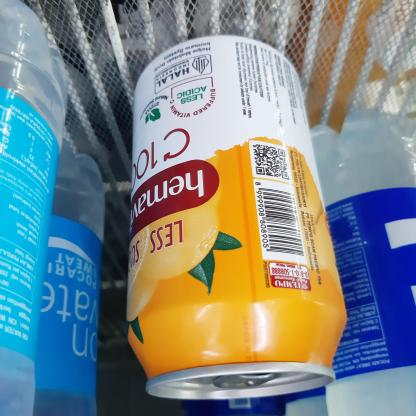alumunium_can: (117, 17, 349, 407)
